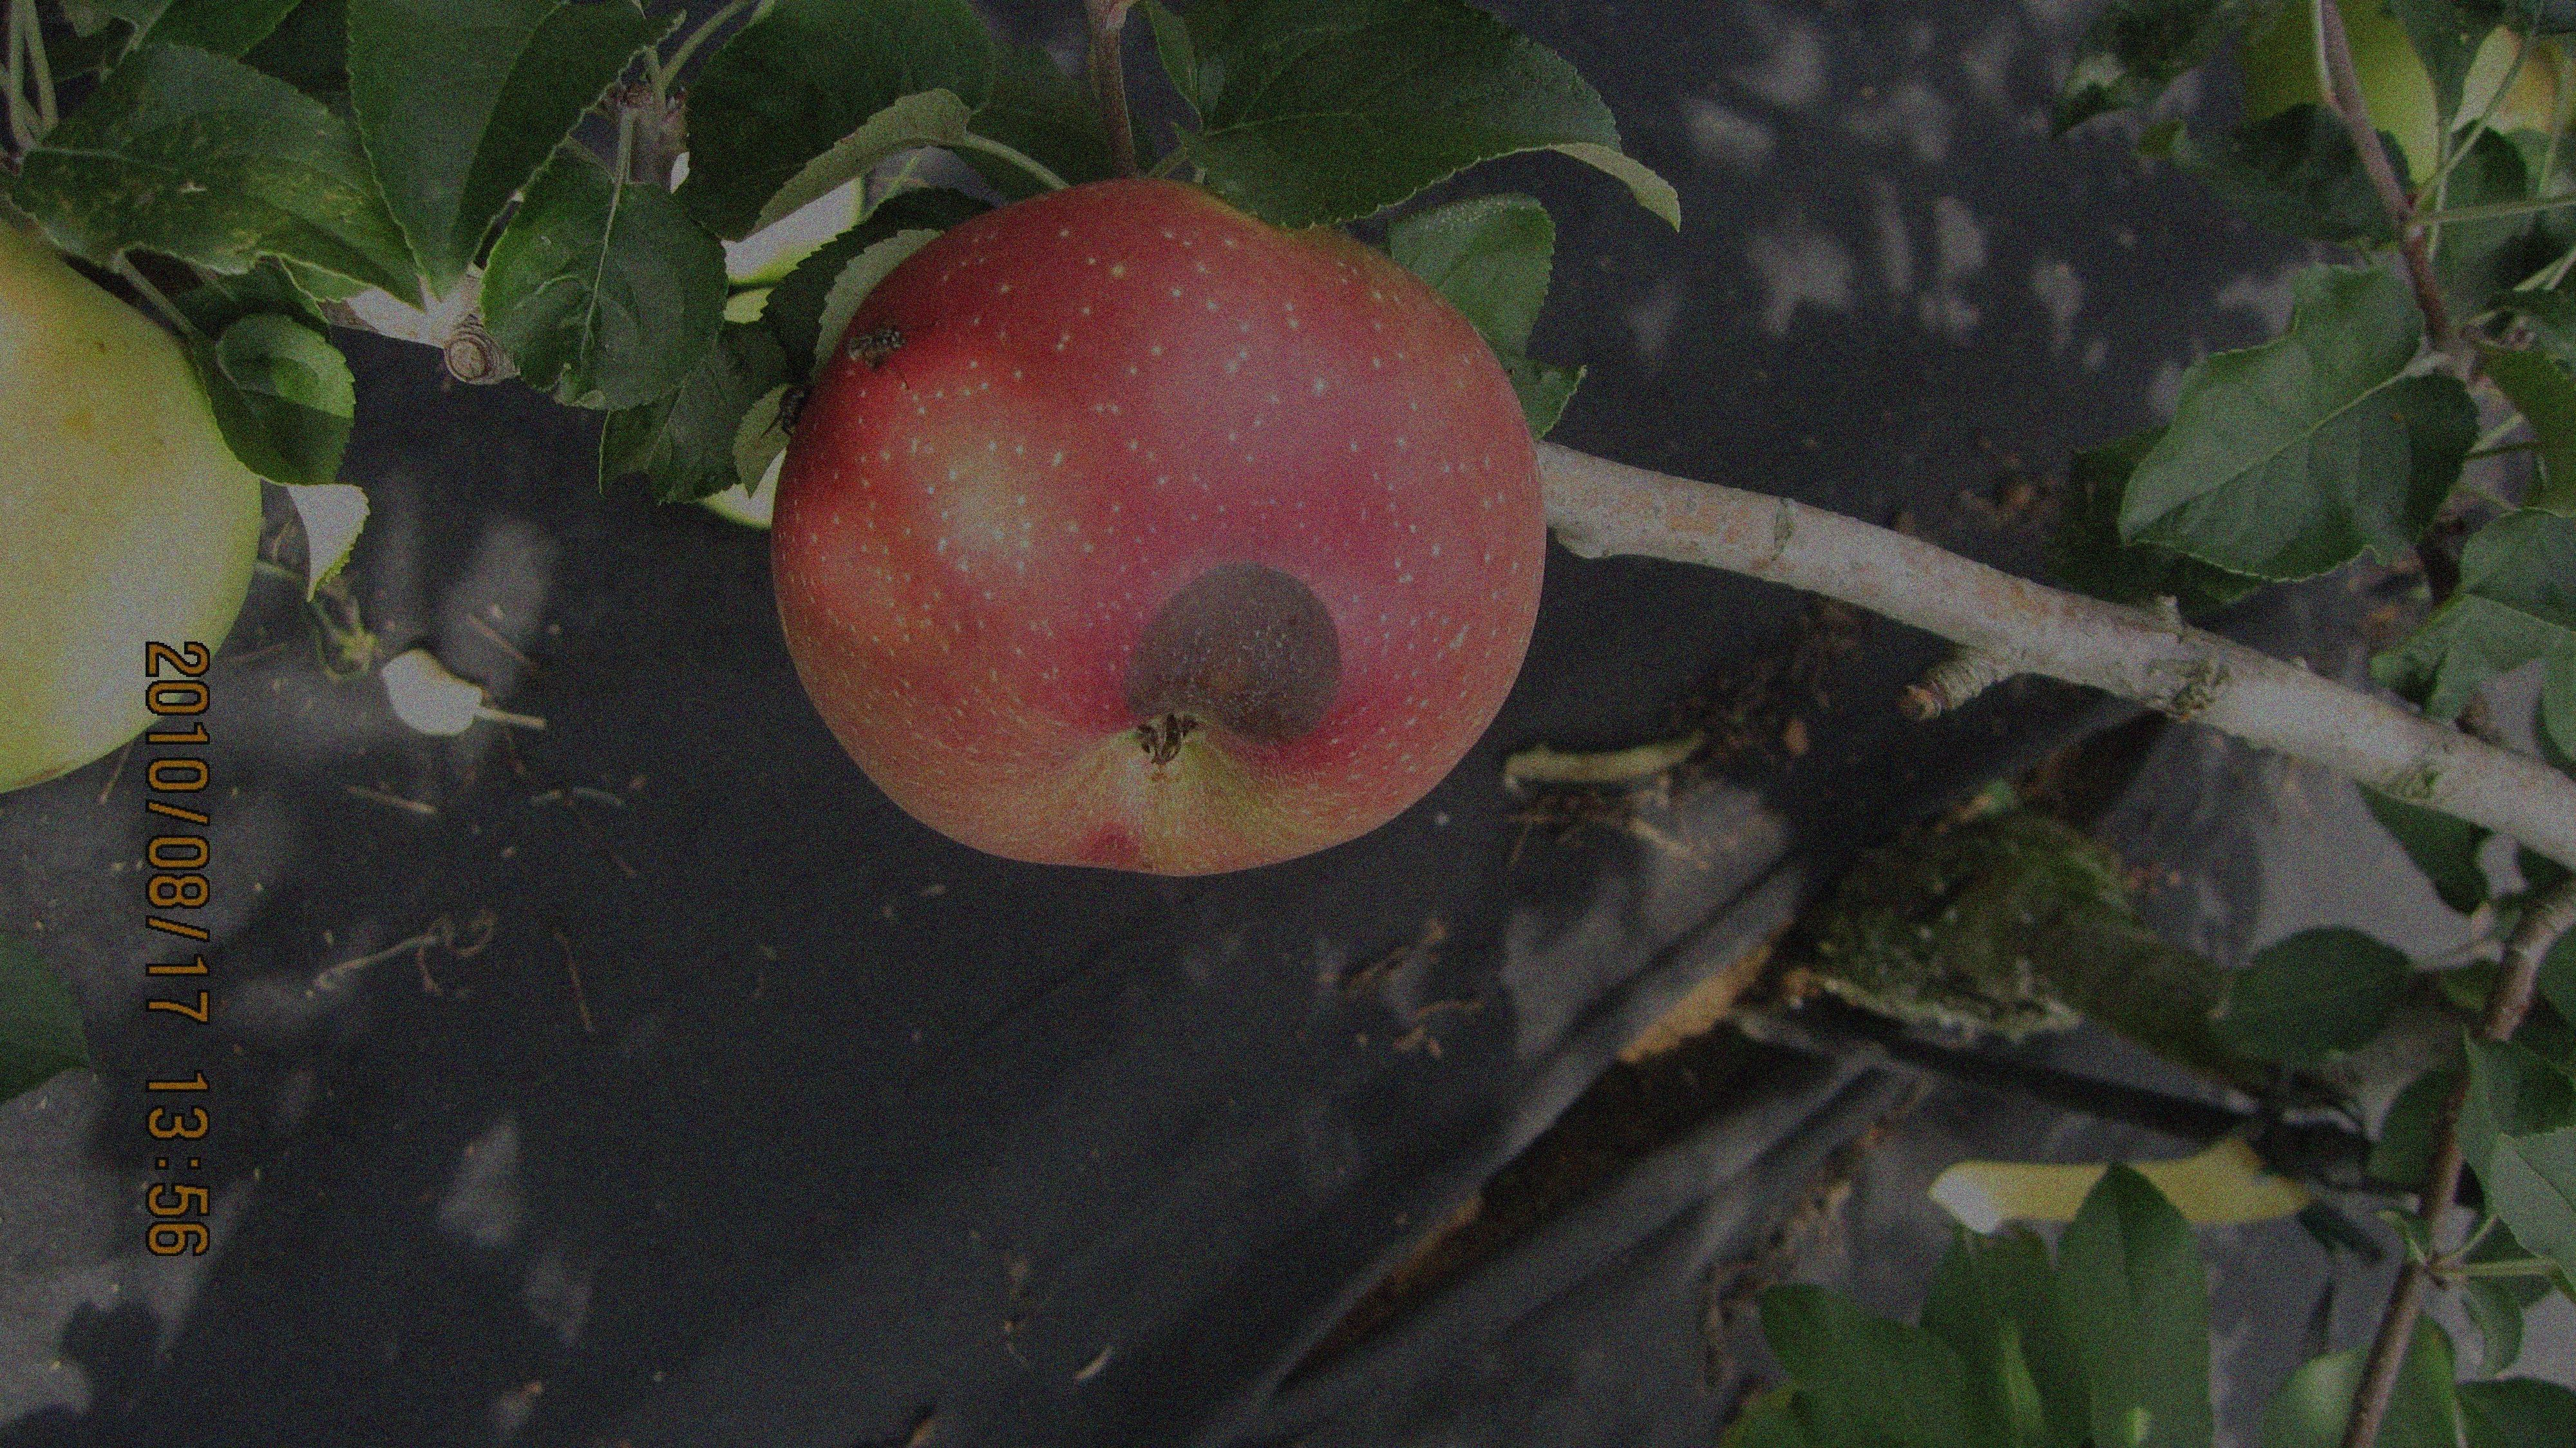rotten apple: (743, 177, 1559, 887)
